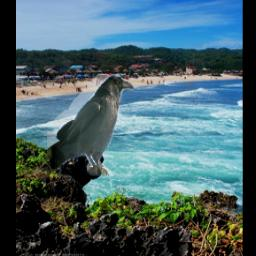Crow: (47, 75, 134, 177)
